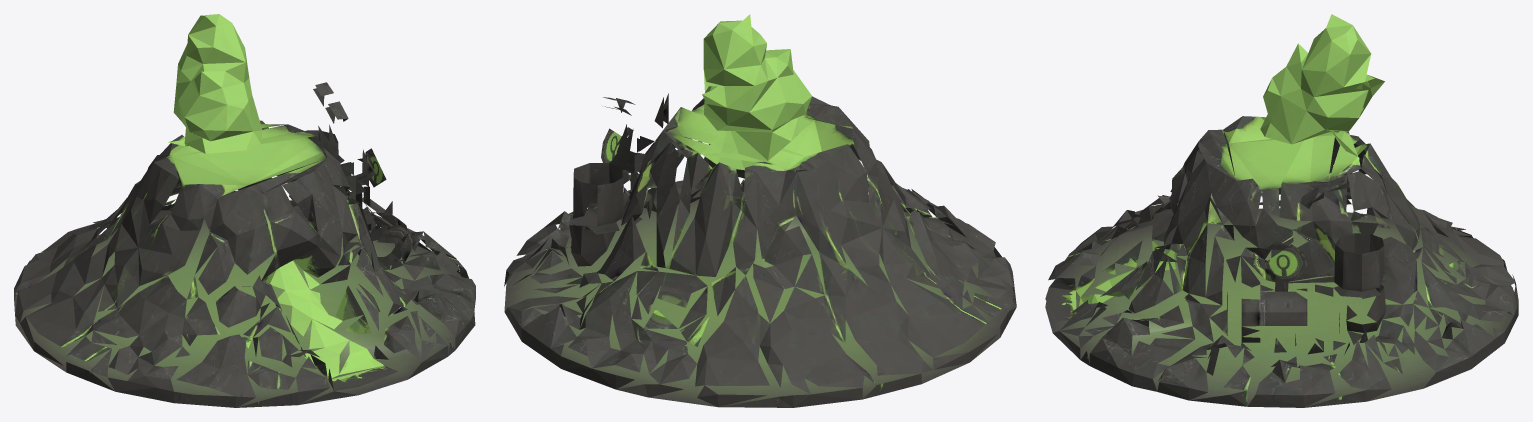
The model's file is plasma_LOD1.glb.
The picture shows the model from 3 angles, left to right: view 1: azimuth 30°, elevation 25°; view 2: azimuth 150°, elevation 25°; view 3: azimuth 270°, elevation 25°; orthographic projection. The views are drawn at different scales.
Visible parts, largest first — view 1: vespene_LOD1; view 2: vespene_LOD1; view 3: vespene_LOD1.
Boxes of the visible parts, bbox=[...] form: vespene_LOD1: bbox=[14, 14, 475, 407]; vespene_LOD1: bbox=[504, 14, 1016, 407]; vespene_LOD1: bbox=[1045, 14, 1518, 407].
Bounding box in the file's own units: 0.9999 × 0.6673 × 0.9999.
1 material, 1 textured.
